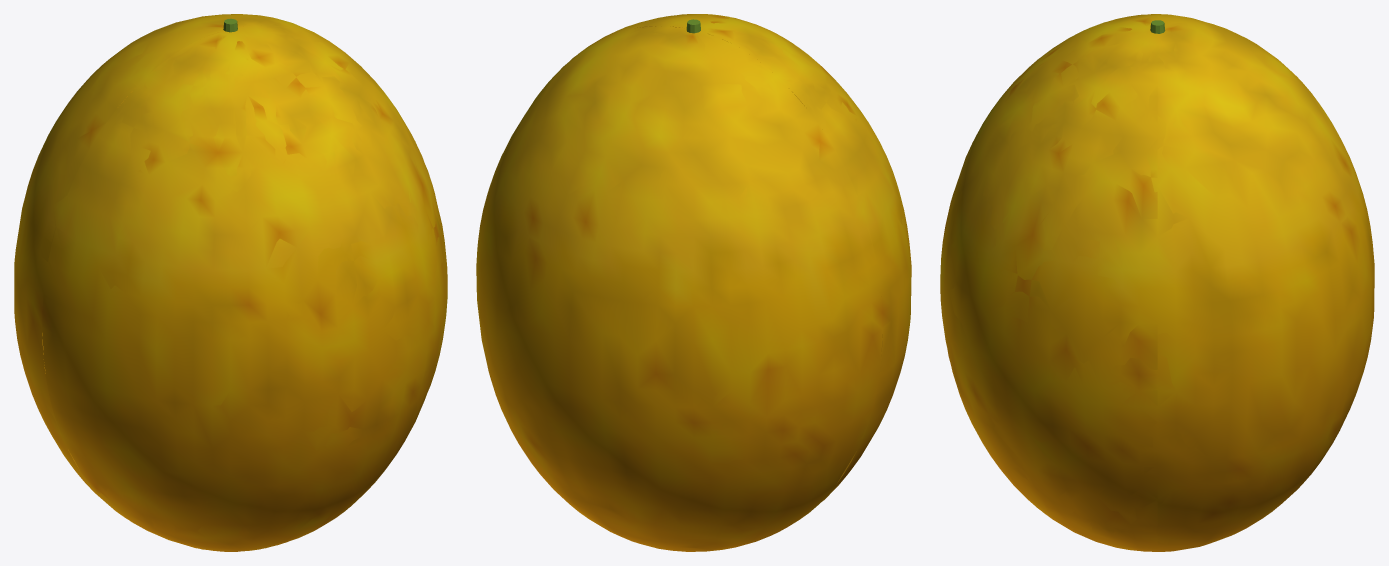
The model's file is grenadille-jaune.glb.
The picture shows the model from 3 angles, left to right: view 1: azimuth 30°, elevation 25°; view 2: azimuth 150°, elevation 25°; view 3: azimuth 270°, elevation 25°; orthographic projection.
Parts seen in each view (by area): view 1: entier_peau, moitie_B_peau, moitie_A_peau; view 2: moitie_A_peau, entier_peau, moitie_B_peau; view 3: entier_peau, moitie_A_peau, moitie_B_peau.
Boxes of the visible parts, x1,y1,x2,y2 form: entier_peau: (14,14,447,551); moitie_B_peau: (42,25,447,551); moitie_A_peau: (14,14,331,500); moitie_A_peau: (476,26,882,551); entier_peau: (476,14,911,550); moitie_B_peau: (600,14,911,501); entier_peau: (940,14,1374,551); moitie_A_peau: (1157,14,1374,551); moitie_B_peau: (940,14,1157,551).
Bounding box in the file's own units: 1.56 × 2.03 × 1.56.
